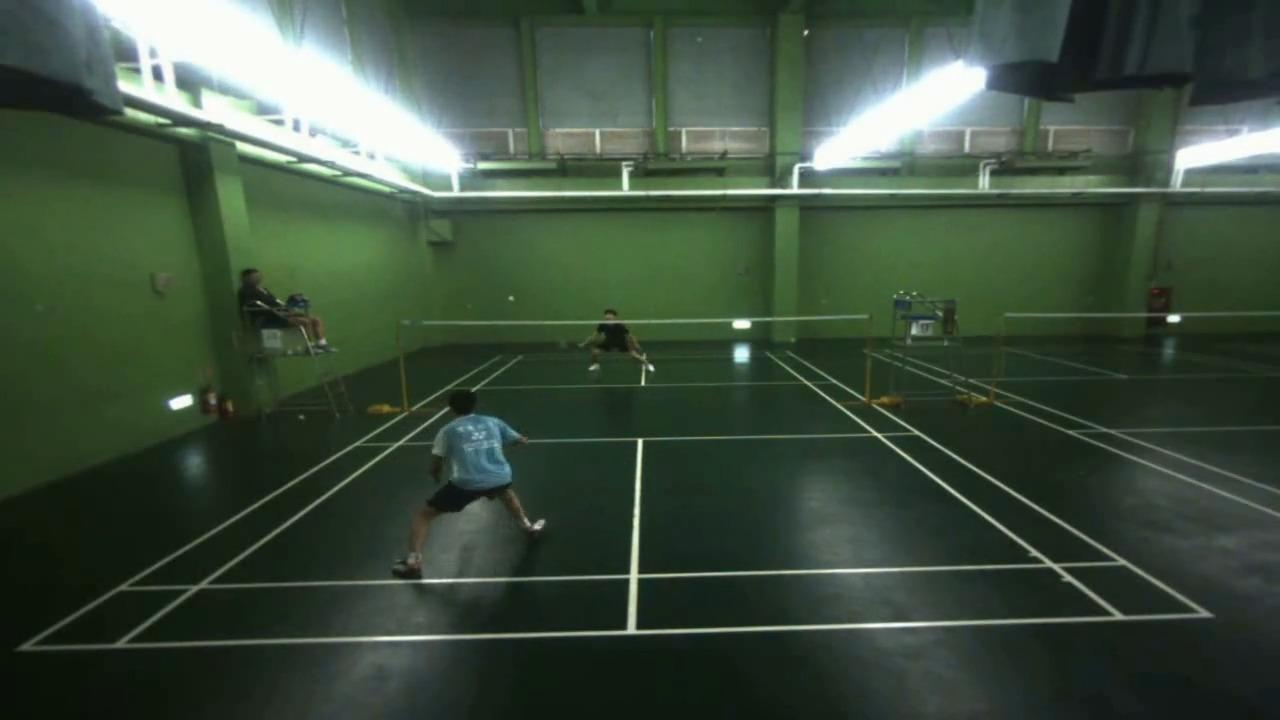shuttle: (508, 295, 515, 305)
